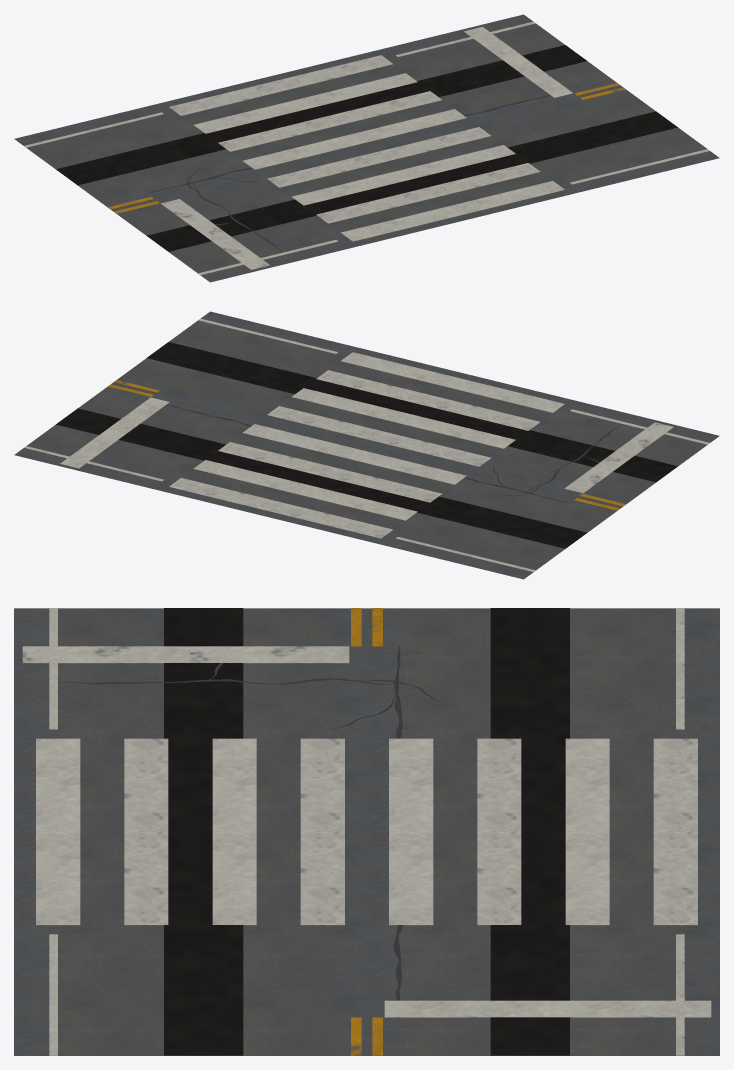
Rendered from StreetRoadCrosswalk.fbx.
3 views of the same model, one above another, from view 1: azimuth 30°, elevation 25°; view 2: azimuth 150°, elevation 25°; view 3: azimuth 270°, elevation 25° (orthographic). The views are drawn at different scales.
Parts seen in each view (by area): view 1: StreetRoadCrosswalk_Road; view 2: StreetRoadCrosswalk_Road; view 3: StreetRoadCrosswalk_Road.
Part boxes in pixels (left/top/right/bottom): StreetRoadCrosswalk_Road: left=14, top=14, right=719, bottom=282; StreetRoadCrosswalk_Road: left=14, top=311, right=719, bottom=579; StreetRoadCrosswalk_Road: left=14, top=608, right=719, bottom=1055.
Size of the model in its own units: 12 by 0.004 by 8.
